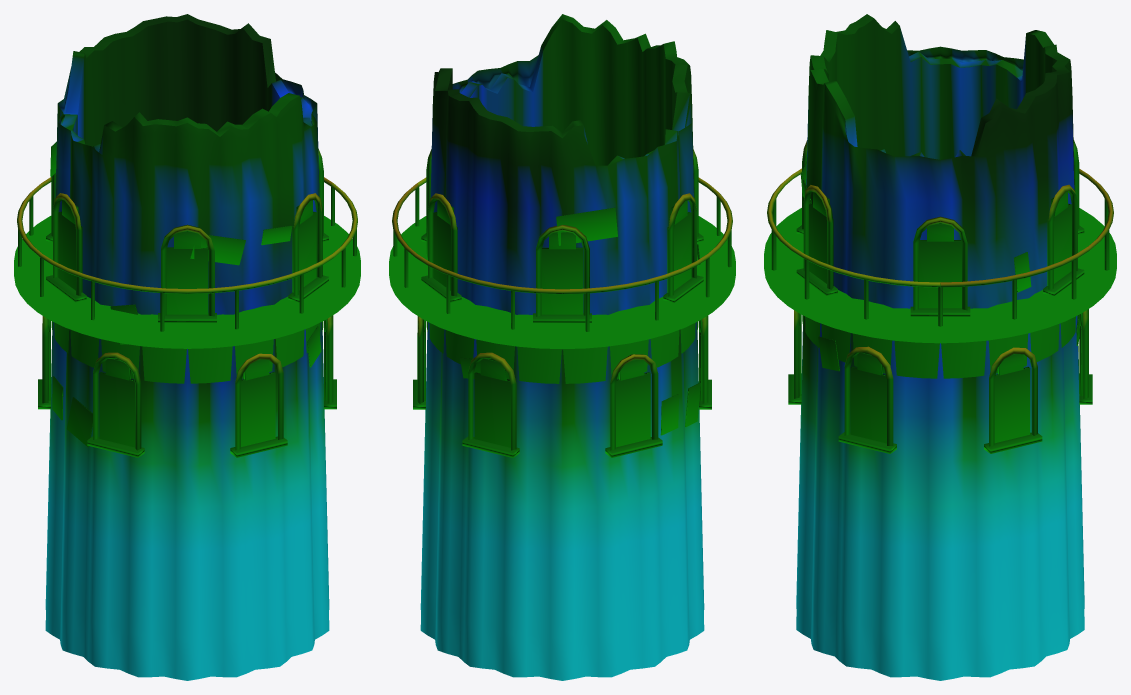
File: iskarra_tower_small_broken.glb
The picture shows the model from 3 angles, left to right: view 1: azimuth 30°, elevation 25°; view 2: azimuth 150°, elevation 25°; view 3: azimuth 270°, elevation 25°; orthographic projection.
Parts seen in each view (by area): view 1: iskarra_tower_small_broken; view 2: iskarra_tower_small_broken; view 3: iskarra_tower_small_broken.
Boxes of the visible parts, box(x1,y1,x2,y2) form: iskarra_tower_small_broken: box(14, 14, 360, 680); iskarra_tower_small_broken: box(389, 14, 735, 680); iskarra_tower_small_broken: box(764, 14, 1116, 680).
Size of what is drawn, in the model's own units: 7.44 by 13.08 by 7.44.
